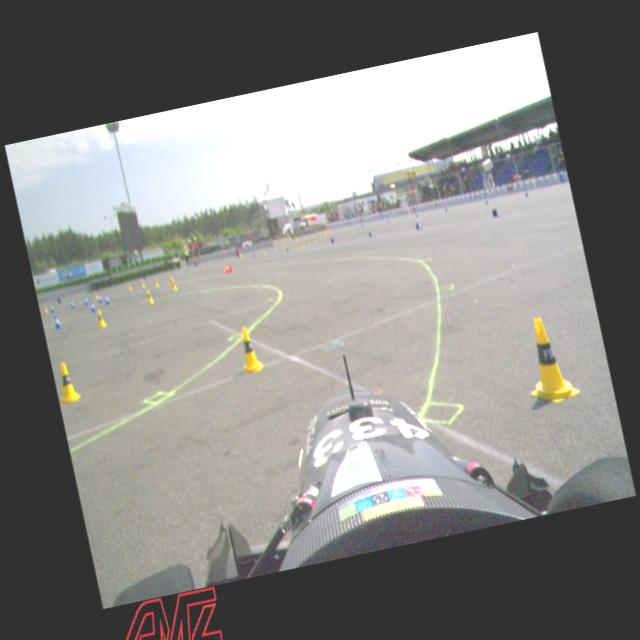blue_cone: (52, 314, 61, 330), (490, 208, 500, 218), (89, 300, 96, 312), (104, 293, 110, 306), (97, 292, 103, 304), (83, 295, 89, 306), (68, 299, 74, 309), (415, 222, 422, 230), (251, 249, 256, 258), (368, 230, 374, 237), (50, 304, 54, 314), (330, 236, 335, 244), (524, 188, 529, 196), (443, 204, 448, 212), (414, 209, 418, 218), (286, 244, 290, 252), (484, 196, 488, 203), (386, 215, 390, 222), (360, 220, 364, 227)
orange_cone: (220, 262, 232, 274)
yellow_cone: (516, 312, 580, 406), (233, 325, 263, 375), (52, 360, 80, 406), (94, 307, 108, 329), (144, 288, 155, 304), (170, 278, 178, 292), (168, 274, 175, 287), (92, 288, 99, 300), (42, 302, 48, 314), (140, 277, 146, 289), (153, 276, 159, 288), (126, 280, 132, 290), (282, 240, 286, 248), (292, 242, 296, 250), (262, 248, 266, 255), (272, 243, 276, 250), (300, 240, 304, 247), (318, 233, 322, 240), (288, 238, 292, 244), (306, 238, 310, 244), (312, 236, 316, 242), (294, 236, 297, 242), (297, 234, 300, 240), (324, 230, 328, 234), (326, 228, 329, 233), (322, 231, 324, 237), (302, 231, 304, 237)
